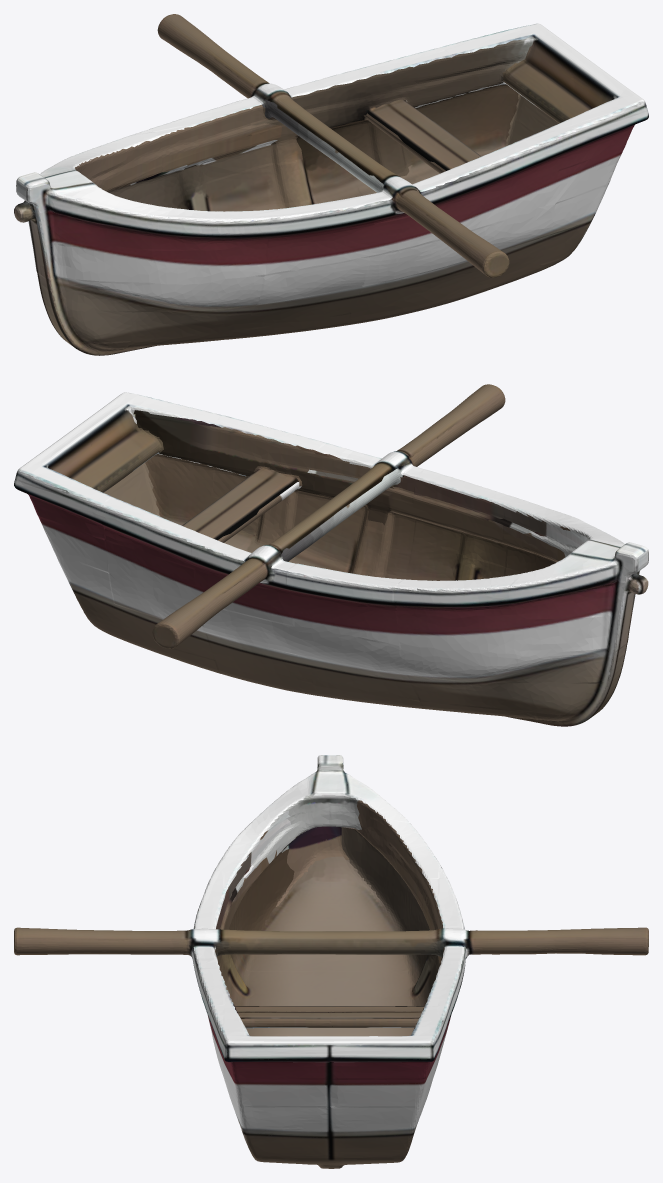
Rendered from hunyuan_lifeboat_textured.glb.
3 renders of one model, top to bottom at view 1: azimuth 30°, elevation 25°; view 2: azimuth 150°, elevation 25°; view 3: azimuth 270°, elevation 25°, orthographic. The views are drawn at different scales.
Parts seen in each view (by area): view 1: tmpkhy4zwgg.ply; view 2: tmpkhy4zwgg.ply; view 3: tmpkhy4zwgg.ply.
Part boxes in pixels (x1,y1,x2,y2): tmpkhy4zwgg.ply: [14, 14, 648, 355]; tmpkhy4zwgg.ply: [14, 384, 648, 726]; tmpkhy4zwgg.ply: [14, 755, 648, 1168].
Size of the model in its own units: 2 by 0.6656 by 1.96.
1 material, 1 textured.
